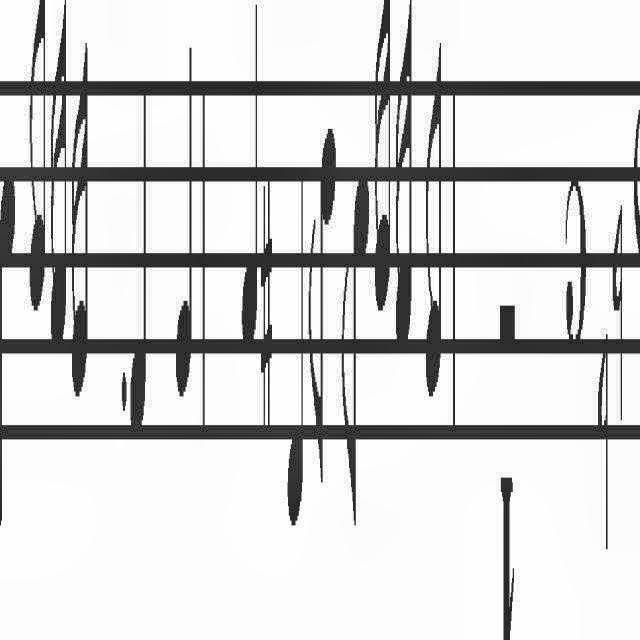Bass-clef: (628, 0, 640, 640)
Bemol: (592, 324, 612, 600), (611, 198, 629, 442)
Diez: (258, 132, 278, 520)
Eighth-note: (420, 1, 448, 460), (306, 121, 338, 513), (342, 138, 368, 536), (23, 0, 48, 348), (0, 172, 20, 540)
Quarter-note: (174, 0, 197, 448), (128, 45, 152, 453), (285, 151, 303, 577), (238, 24, 260, 370)
Sixteenth-note: (69, 20, 91, 448), (47, 0, 69, 396), (396, 0, 415, 396), (374, 0, 391, 354)
